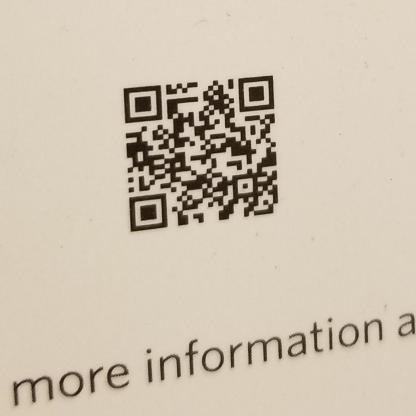qr: (116, 74, 283, 235)
